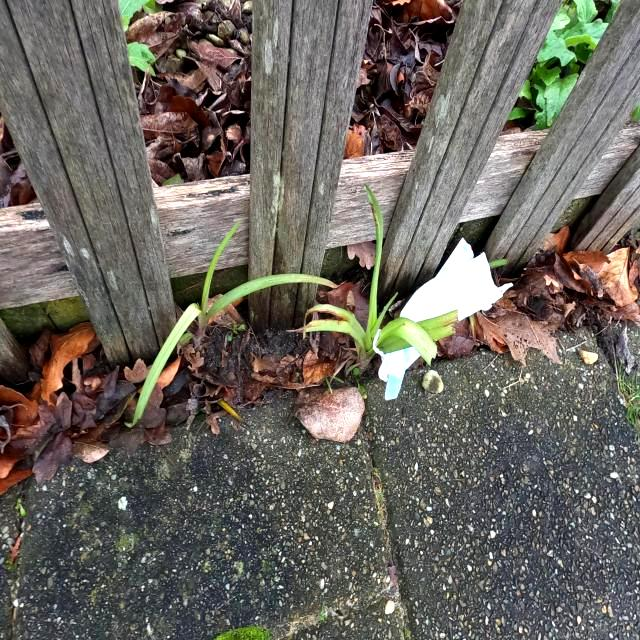Mask: (372, 234, 514, 404)
